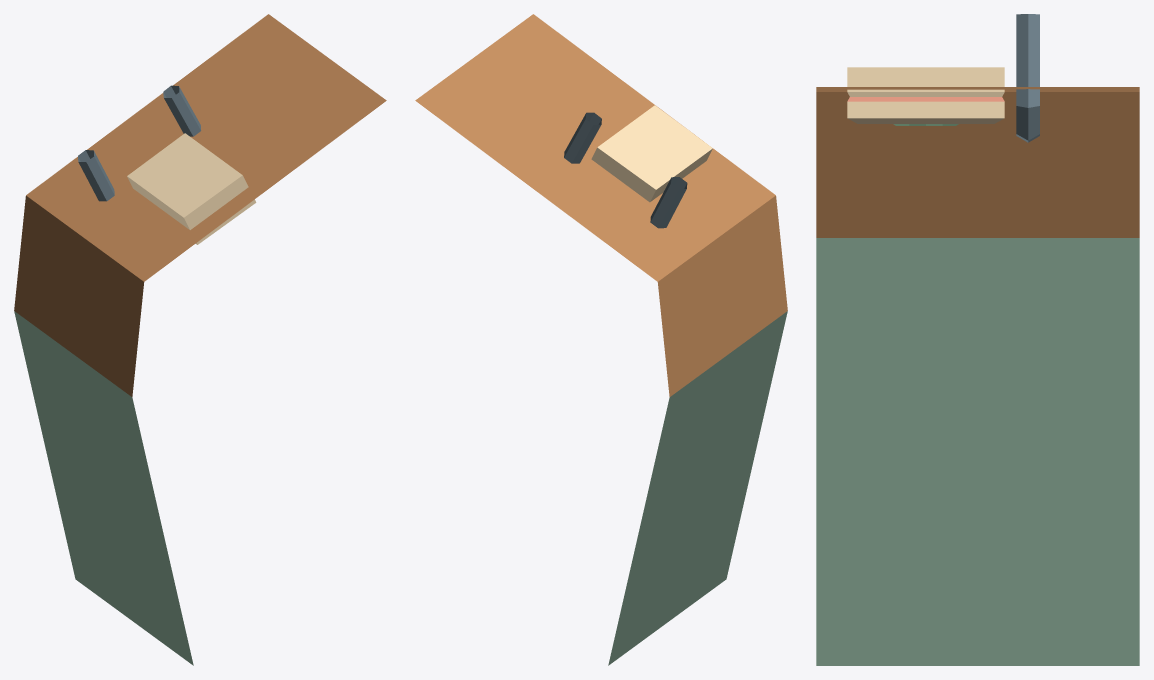
The model's file is Lateral2.FBX.
3 renders of one model, left to right at view 1: azimuth 30°, elevation 25°; view 2: azimuth 150°, elevation 25°; view 3: azimuth 270°, elevation 25°, orthographic. The views are drawn at different scales.
Parts seen in each view (by area): view 1: Laterales01; view 2: Laterales01; view 3: Laterales01.
Part boxes in pixels (x1,y1,x2,y2): Laterales01: [14, 14, 386, 665]; Laterales01: [415, 14, 787, 665]; Laterales01: [816, 14, 1139, 665].
Bounding box in the file's own units: 373 × 300 × 725.
Materials: 1 (1 with a texture image).
